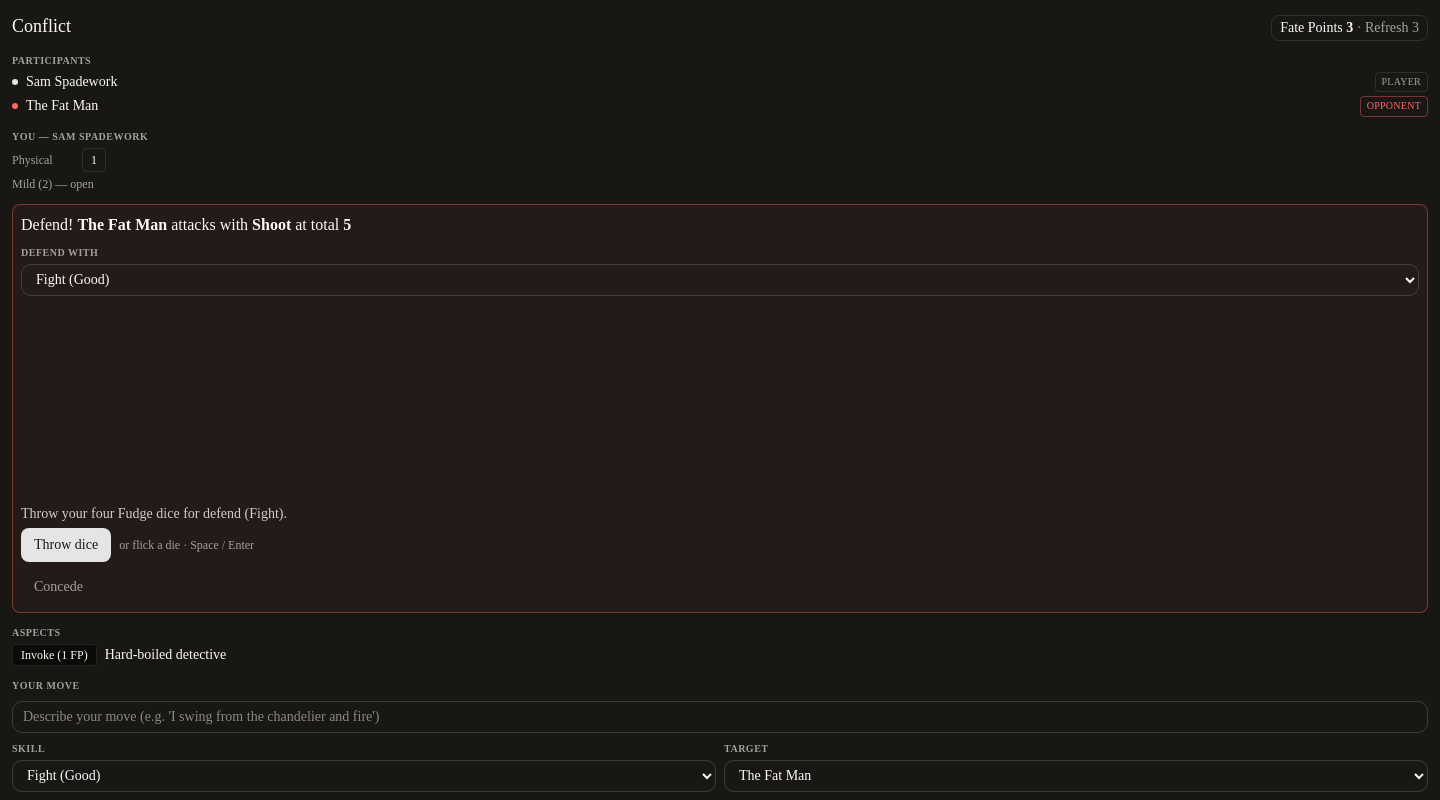
it: FateConflictSurface — DEFEND tray (Story 126-17) › Concede sends a defend throw with the concede signal and NO dice, then dismisses
This screenshot has width=1440, height=800.
Click the button with test id "fate-defend-concede": coordinates (58, 587) [21,570,96,604]
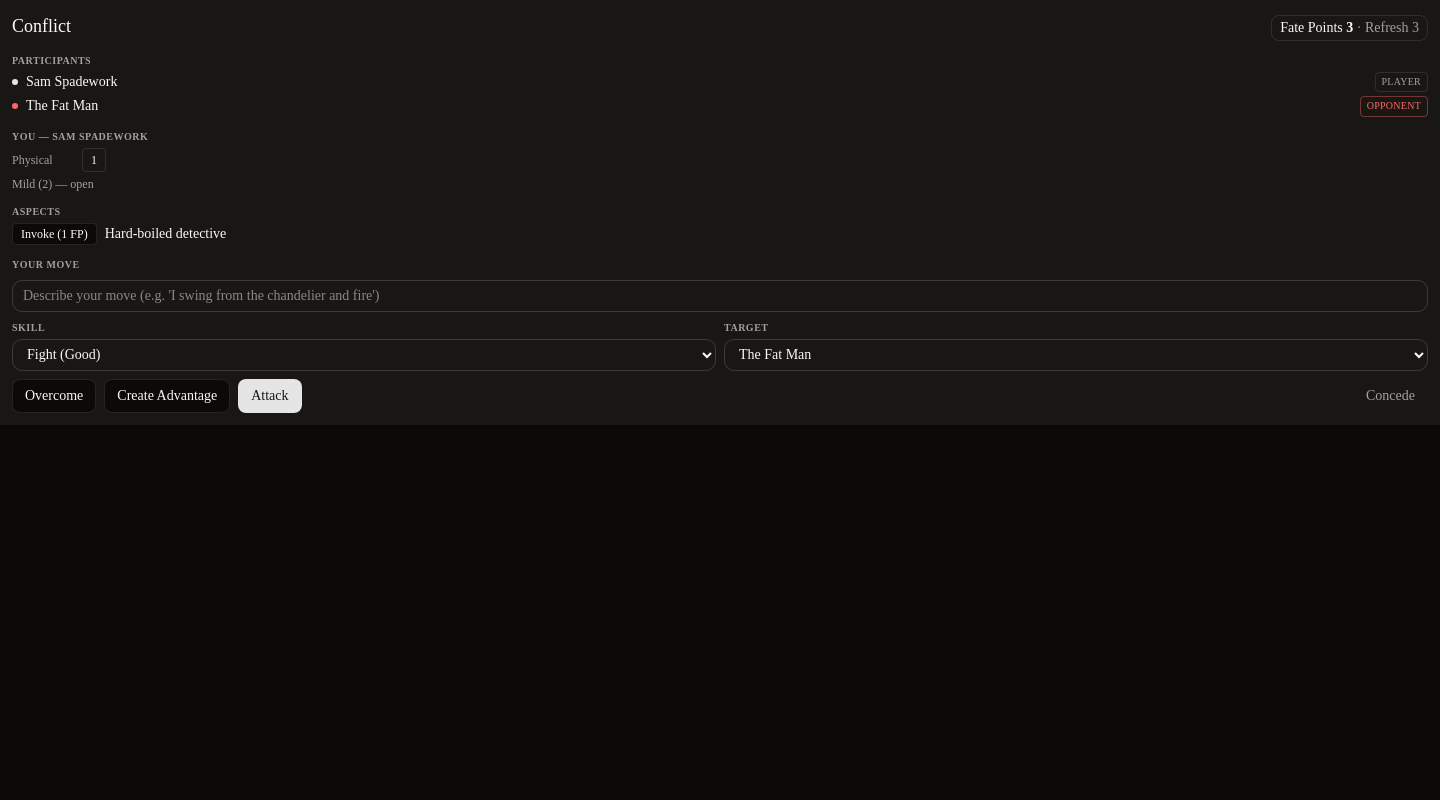
Check: the element with test id "fate-defend-tray" is gone
